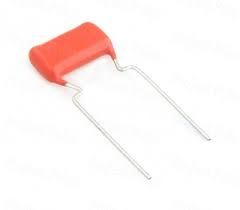ceramic capacitor: (10, 14, 150, 110)
